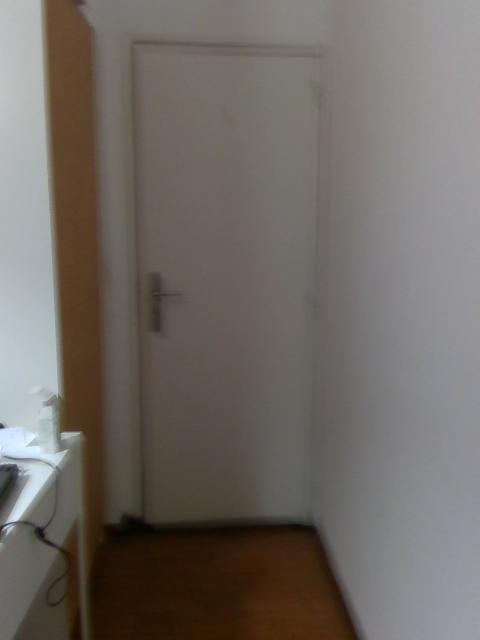door: (134, 44, 322, 531)
